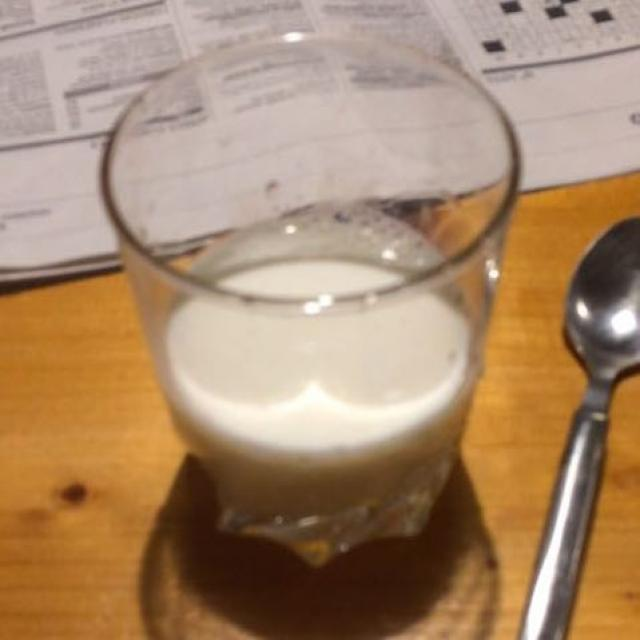milk: (159, 238, 476, 526)
